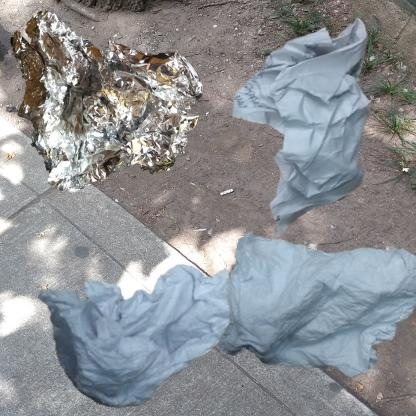aluminio: (10, 10, 203, 192)
papel: (10, 213, 265, 416), (213, 10, 416, 259), (213, 213, 416, 406)
